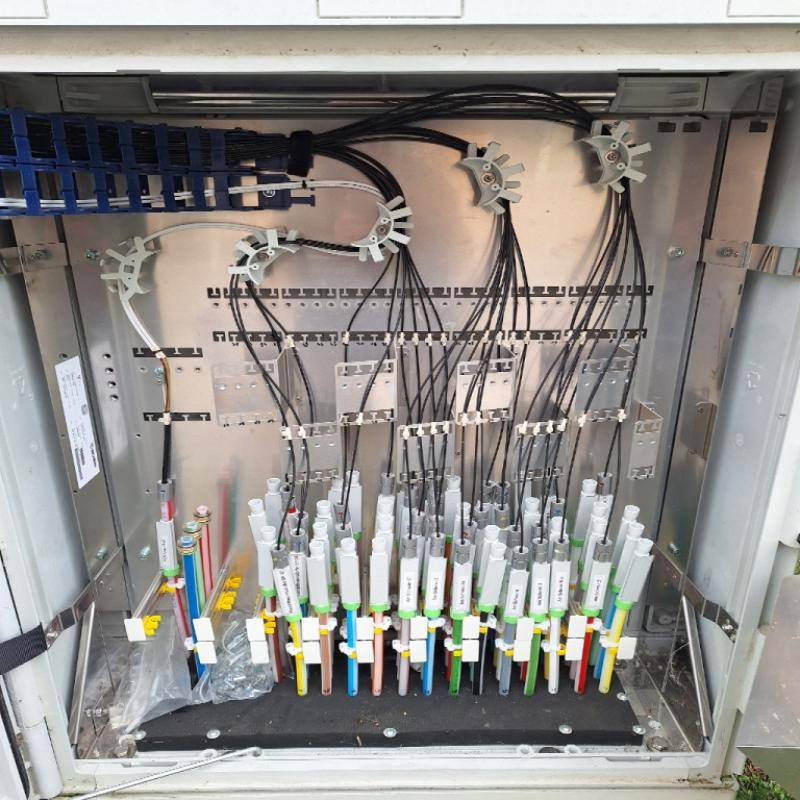NT-Gehause: (0, 3, 793, 796)
